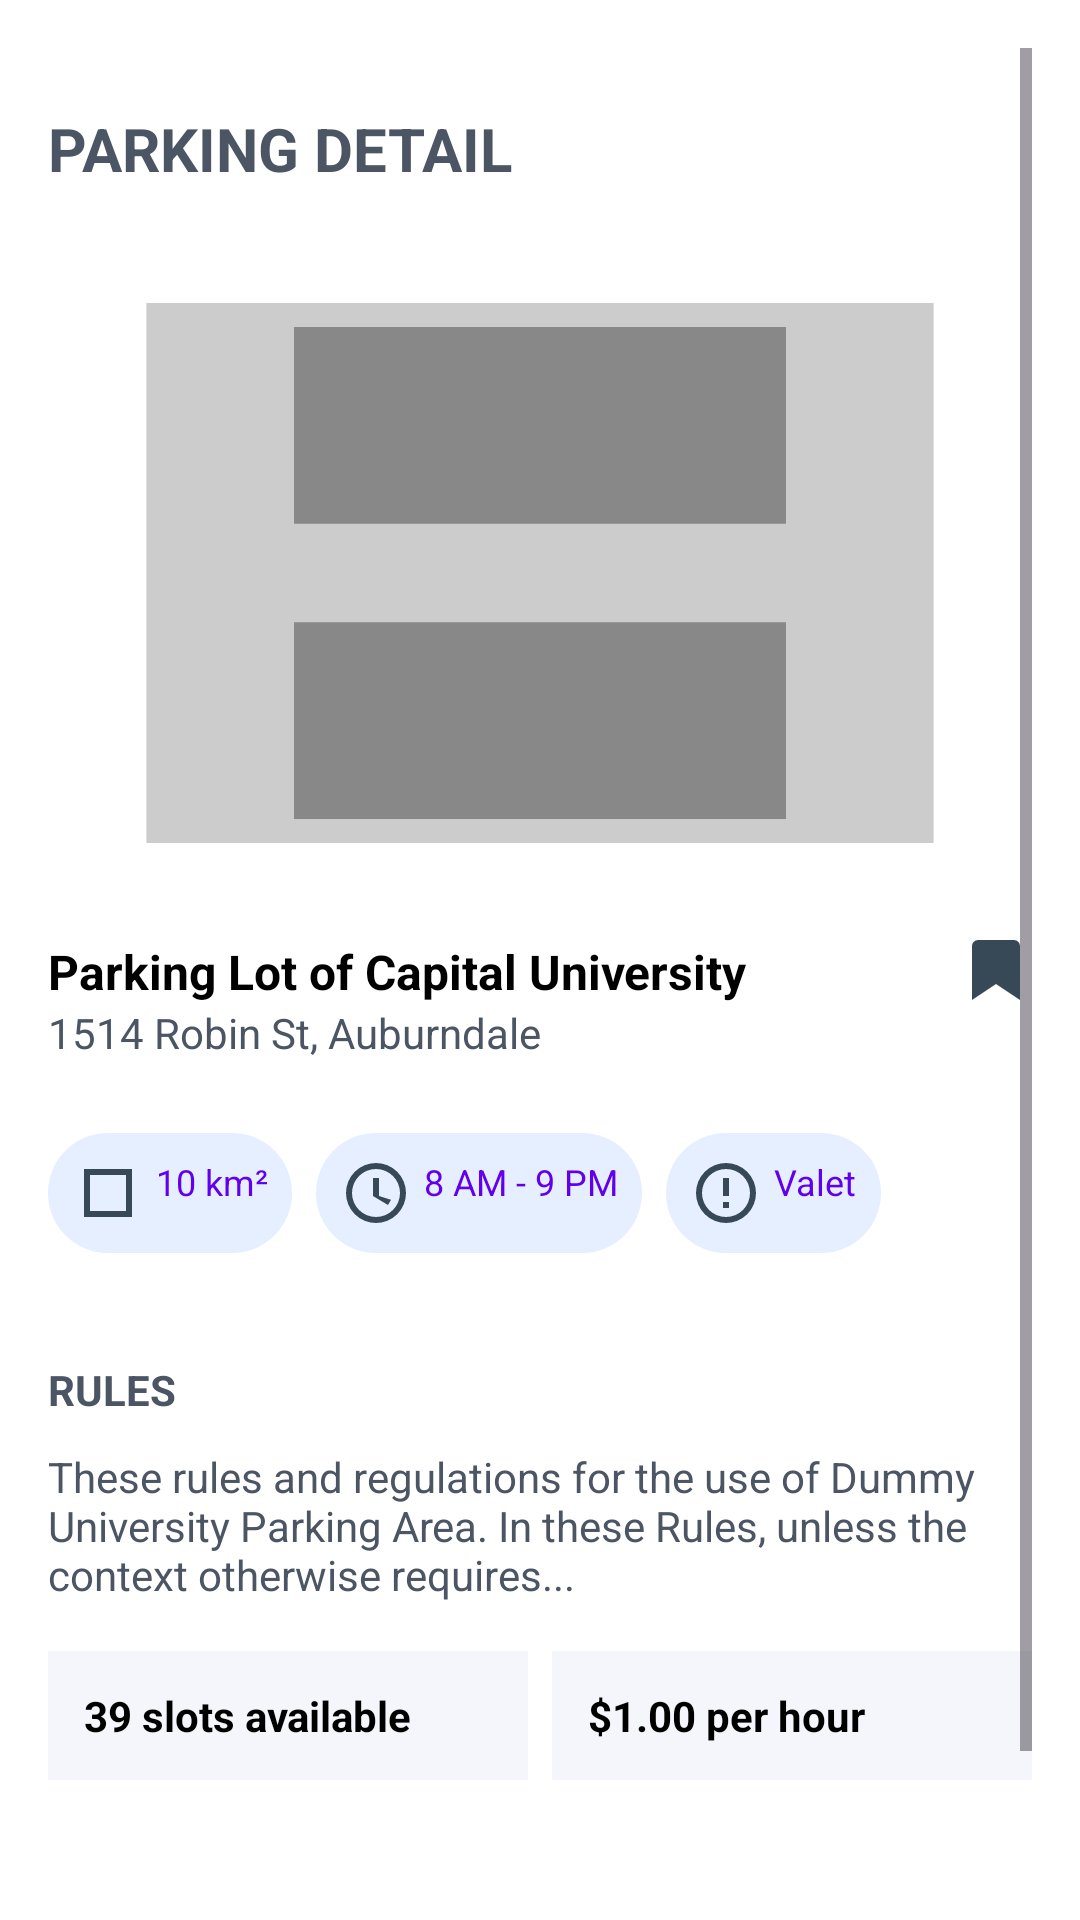

Icons on this 1080px x 1920px Android screen, each with its box as (x1, y1, x2, y2):
Bookmark: (972, 934, 1032, 1006)
